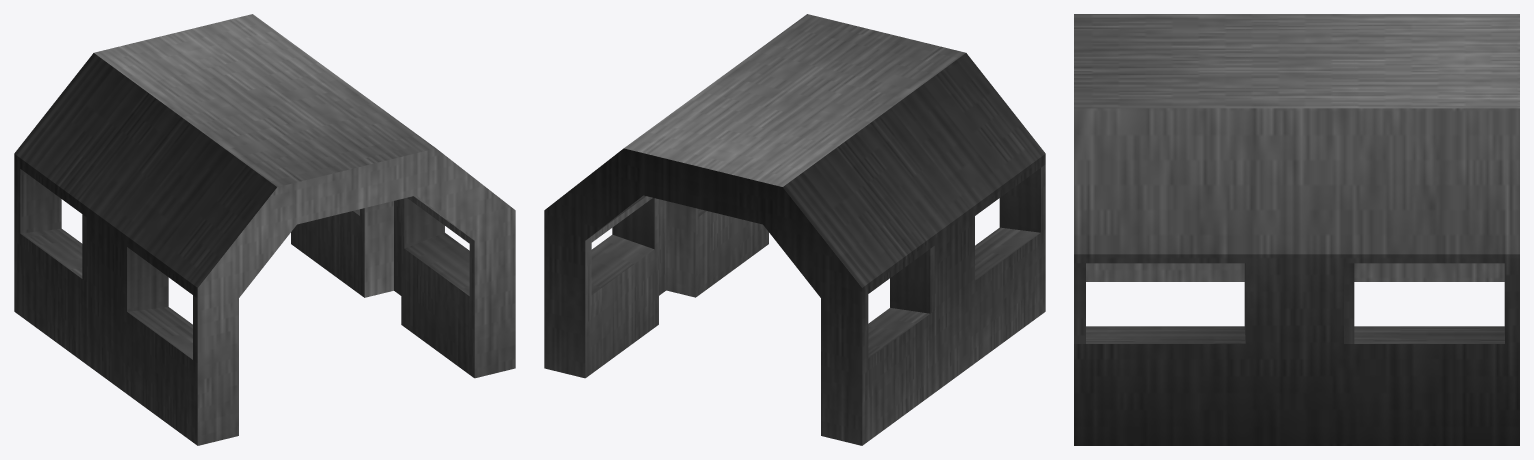
Rendered from HallwaySmallWindows.fbx.
The picture shows the model from 3 angles, left to right: view 1: azimuth 30°, elevation 25°; view 2: azimuth 150°, elevation 25°; view 3: azimuth 270°, elevation 25°; orthographic projection. The views are drawn at different scales.
Visible parts, largest first — view 1: HallwaySmallWindows; view 2: HallwaySmallWindows; view 3: HallwaySmallWindows.
Part boxes in pixels (left/top/right/bottom): HallwaySmallWindows: left=14, top=14, right=515, bottom=445; HallwaySmallWindows: left=544, top=14, right=1045, bottom=445; HallwaySmallWindows: left=1074, top=14, right=1519, bottom=445.
Bounding box in the file's own units: 4 × 2.88 × 4.
1 material, 1 textured.
